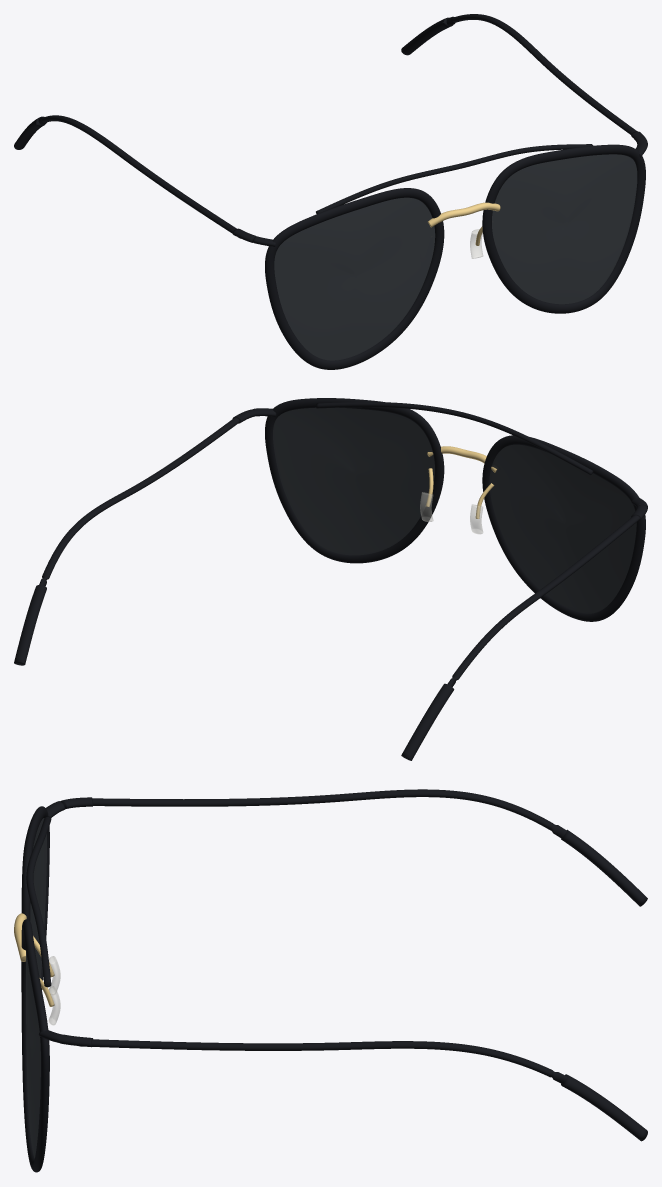
File: prod-new-5.glb
The picture shows the model from 3 angles, top to bottom: view 1: azimuth 30°, elevation 25°; view 2: azimuth 150°, elevation 25°; view 3: azimuth 270°, elevation 25°; orthographic projection. The views are drawn at different scales.
Parts seen in each view (by area): view 1: Optical lens -1, Optical lens 1, Frame rim -1, Frame rim 1, Thin temple -1, Thin temple 1, Double bridge, Bridge, Temple tip 1; view 2: Optical lens 1, Optical lens -1, Frame rim 1, Frame rim -1, Thin temple 1, Thin temple -1, Double bridge, Temple tip -1, Temple tip 1; view 3: Thin temple -1, Thin temple 1, Frame rim 1, Optical lens 1, Frame rim -1, Double bridge, Temple tip 1, Temple tip -1, Optical lens -1.
Boxes of the visible parts, x1,y1,x2,y2 form: Optical lens -1: (274,197,435,360); Optical lens 1: (492,154,637,304); Frame rim -1: (265,188,444,369); Frame rim 1: (482,144,645,313); Thin temple -1: (38,115,240,238); Thin temple 1: (446,14,636,134); Double bridge: (316,144,592,213); Bridge: (428,202,500,227); Temple tip 1: (401,17,453,55); Optical lens 1: (273,407,434,555); Optical lens -1: (489,444,636,613); Frame rim 1: (265,398,444,563); Frame rim -1: (482,435,645,621); Thin temple 1: (17,417,239,664); Thin temple -1: (404,513,644,759); Double bridge: (315,402,593,475); Temple tip -1: (401,683,454,760); Temple tip 1: (14,585,46,665); Thin temple -1: (92,789,566,838); Thin temple 1: (78,1039,566,1083); Frame rim 1: (21,919,49,1172); Optical lens 1: (26,951,40,1158); Frame rim -1: (21,806,49,989); Double bridge: (26,816,51,987); Temple tip 1: (561,1074,647,1141); Temple tip -1: (561,829,647,906); Optical lens -1: (30,818,46,977).
Bounding box in the file's own units: 0.1365 × 0.0543 × 0.1425.
